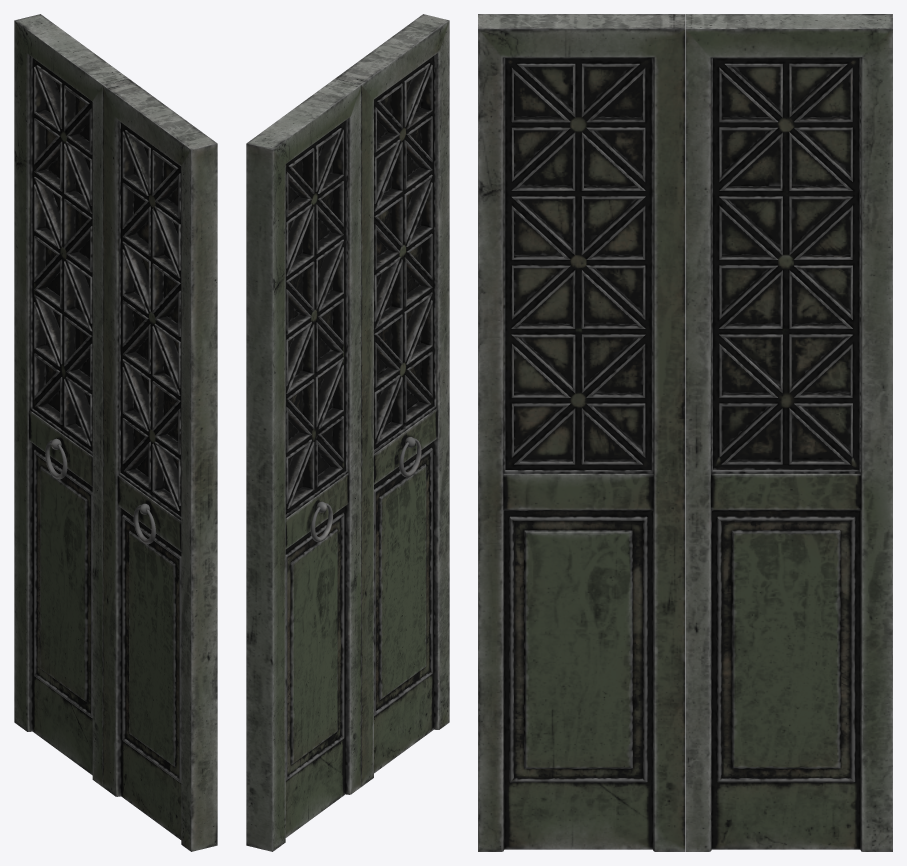
Rendered from SM_MDoorC.fbx.
3 renders of one model, left to right at view 1: azimuth 30°, elevation 25°; view 2: azimuth 150°, elevation 25°; view 3: azimuth 270°, elevation 25°, orthographic. The views are drawn at different scales.
Parts seen in each view (by area): view 1: SM_MDoorC_LOD0; view 2: SM_MDoorC_LOD0; view 3: SM_MDoorC_LOD0.
Part boxes in pixels (x1=…): SM_MDoorC_LOD0: x1=14, y1=14, x2=217, y2=851; SM_MDoorC_LOD0: x1=246, y1=14, x2=449, y2=851; SM_MDoorC_LOD0: x1=478, y1=14, x2=892, y2=851.
Size of the model in its own units: 10.79 by 95.04 by 208.
1 material, 1 textured.
